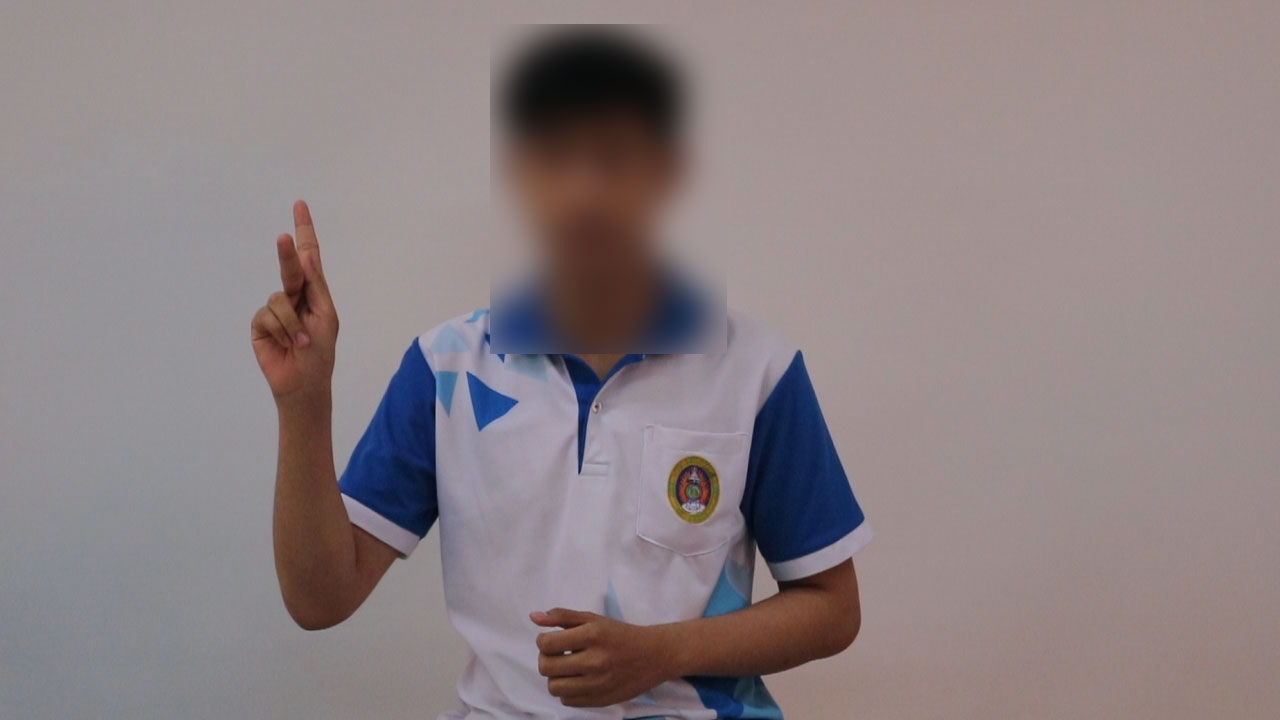ko: (198, 182, 419, 451)
